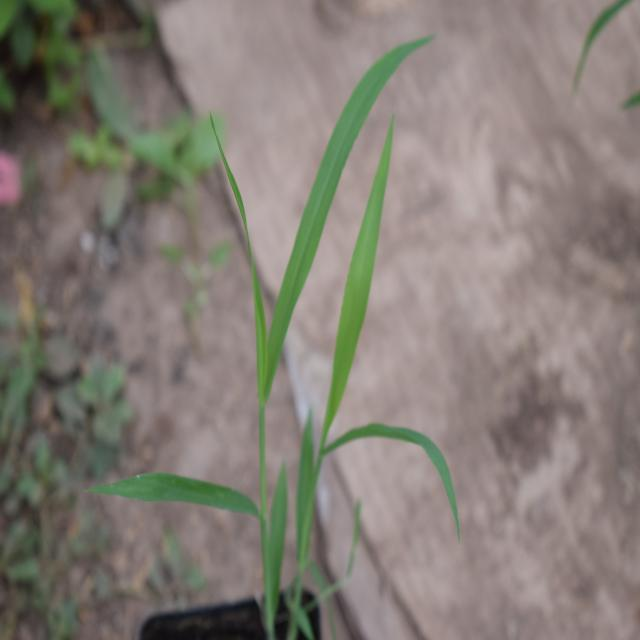crabgrass: (133, 34, 448, 595)
